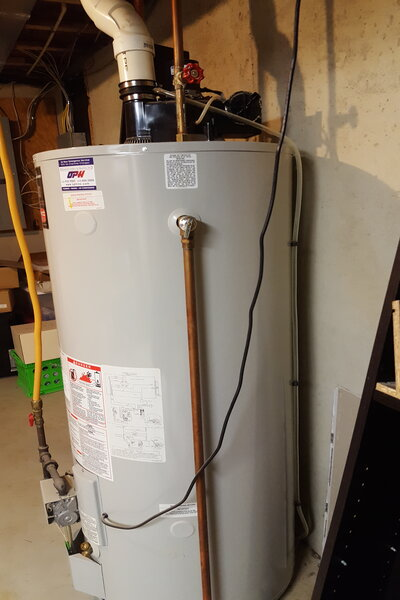valve: (175, 213, 198, 250)
